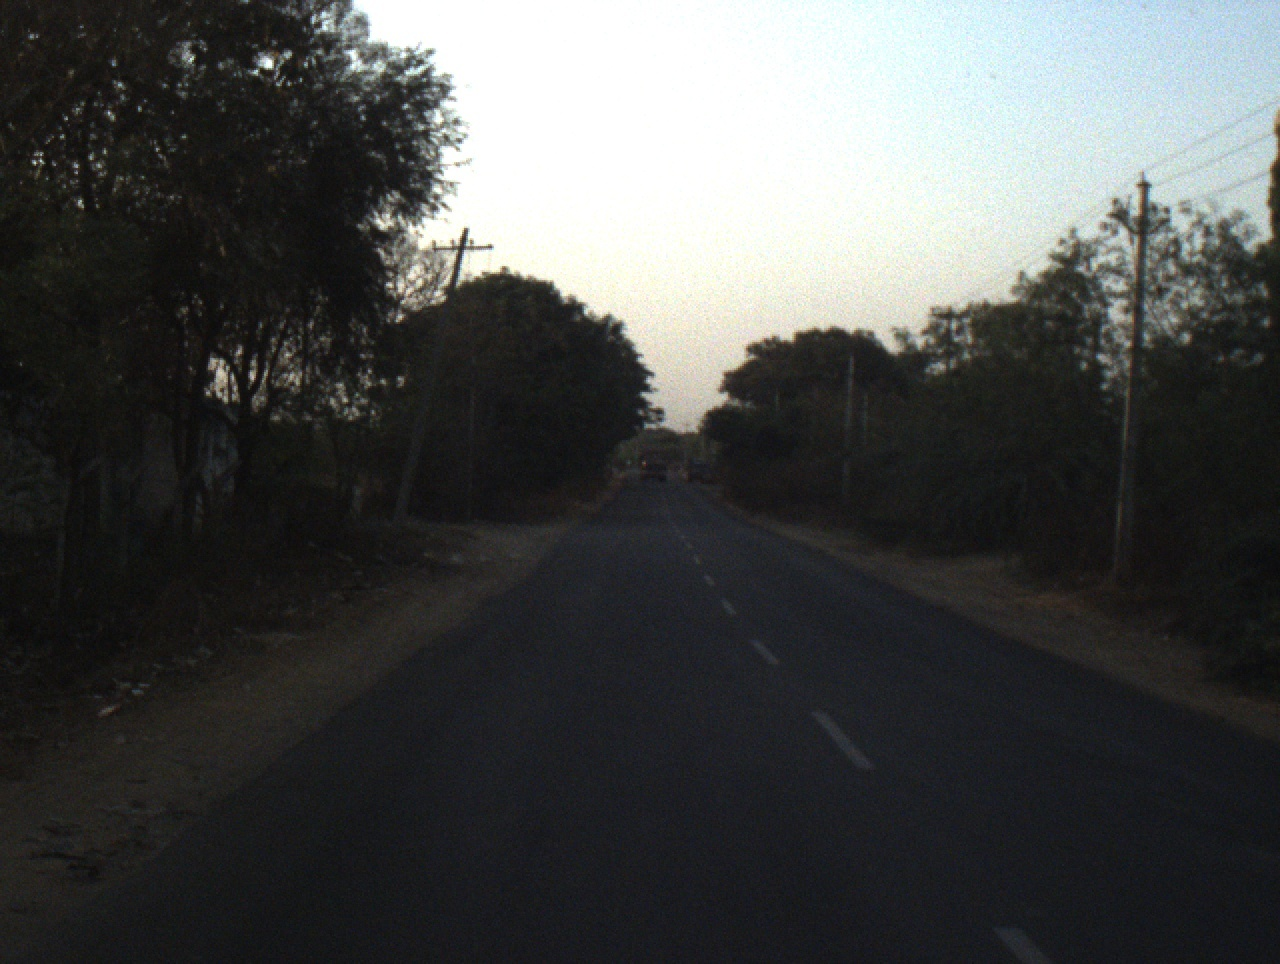truck: (635, 447, 669, 483), (681, 453, 708, 484)
